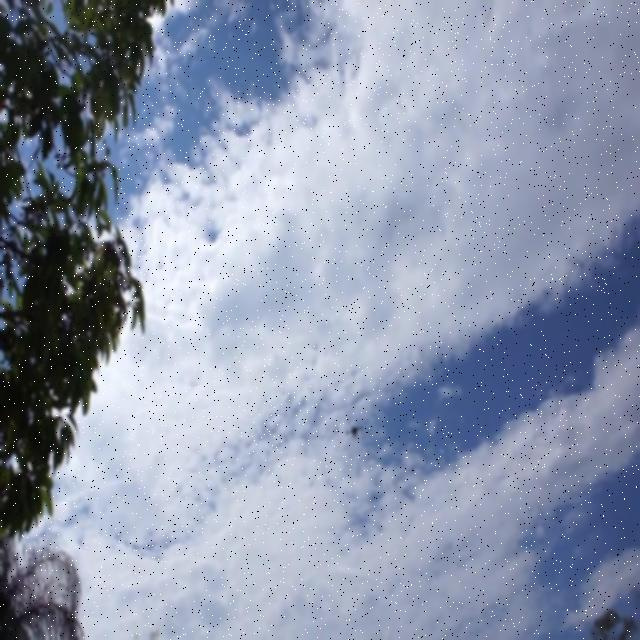UAV: (346, 426, 364, 439)
